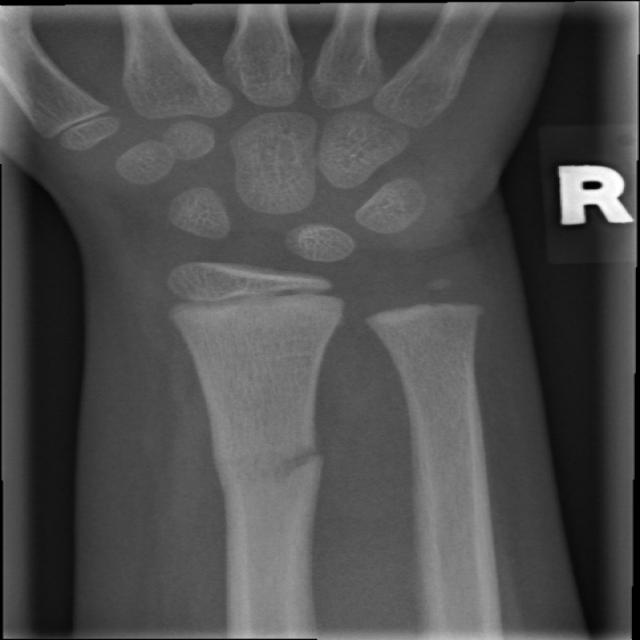radius fracture: (184, 384, 361, 557)
